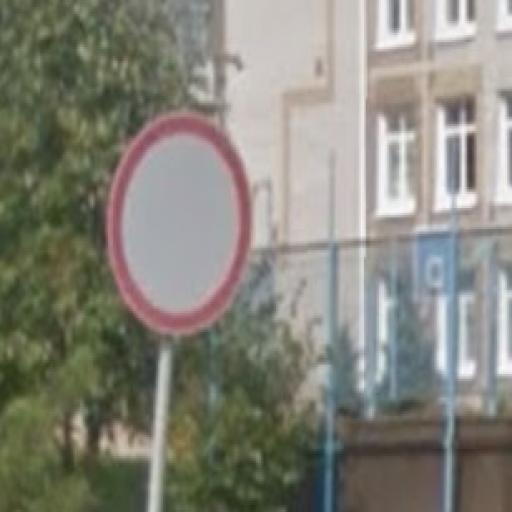traffic_sign: (107, 111, 252, 335)
